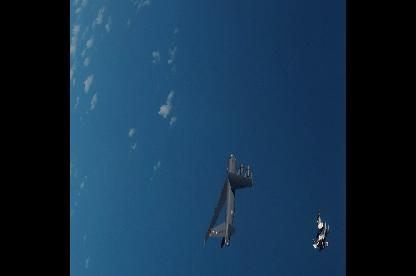B2: (204, 152, 254, 247)
F14: (313, 209, 329, 250)
